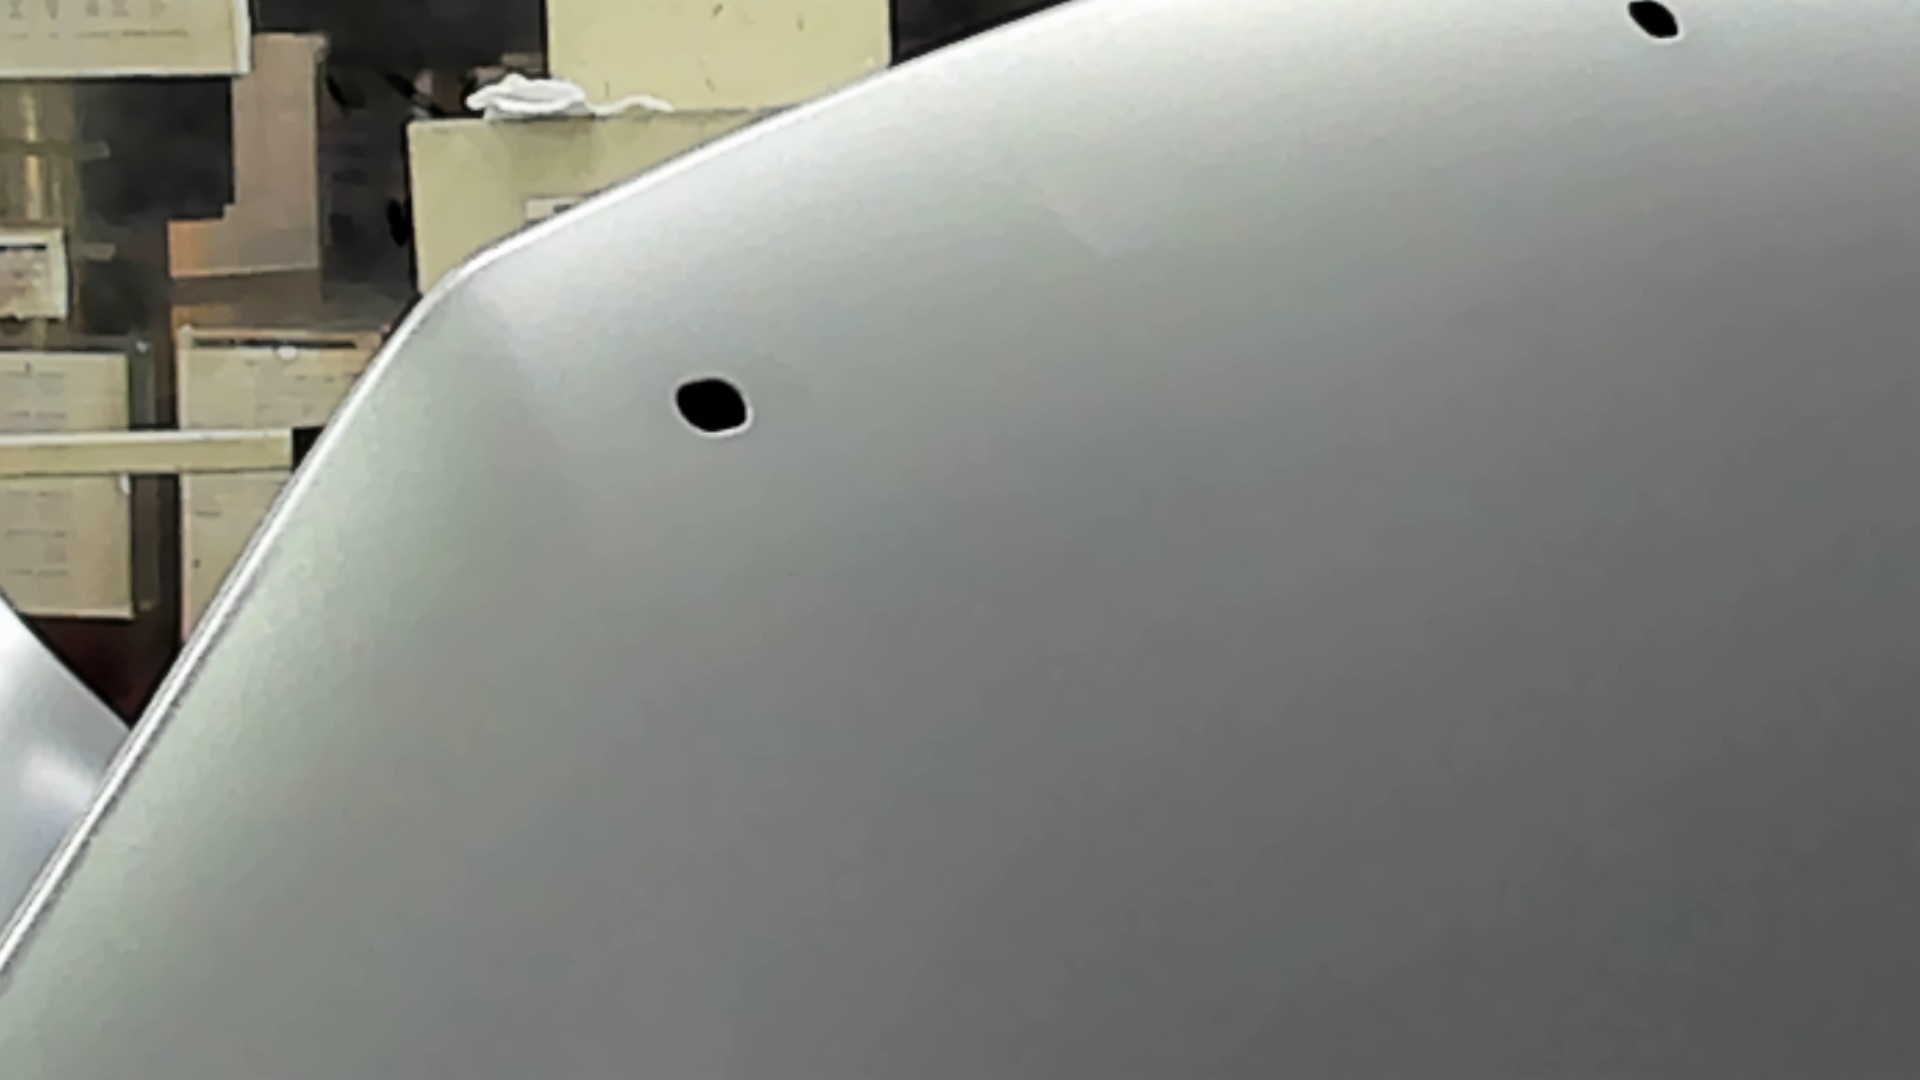amorfo: (666, 369, 756, 440), (1615, 1, 1688, 55)
capo: (847, 125, 1920, 1080)
